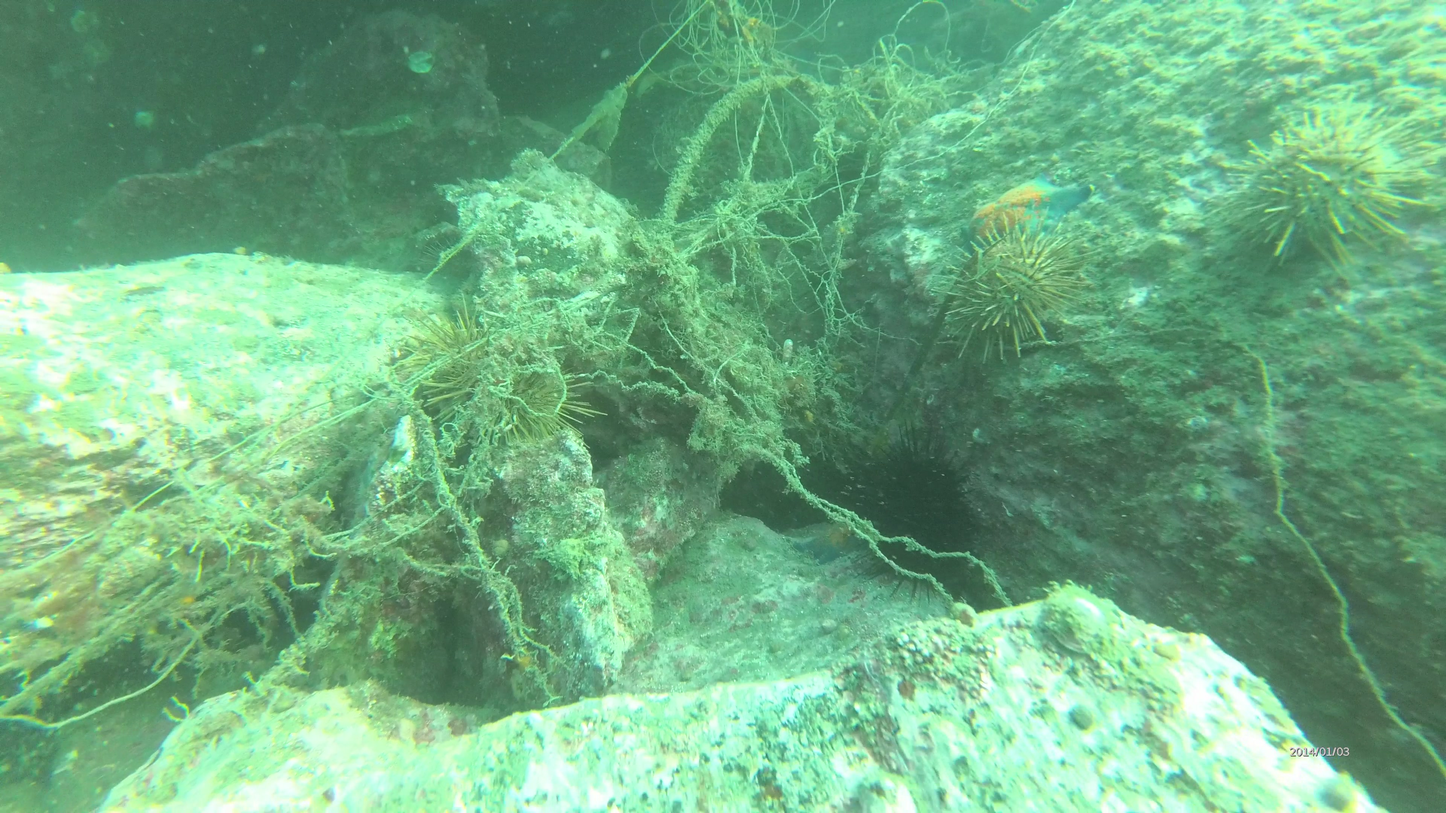holothurian: (962, 175, 1096, 247), (387, 417, 421, 472)
starfish: (1231, 116, 1434, 278), (945, 236, 1092, 364)
